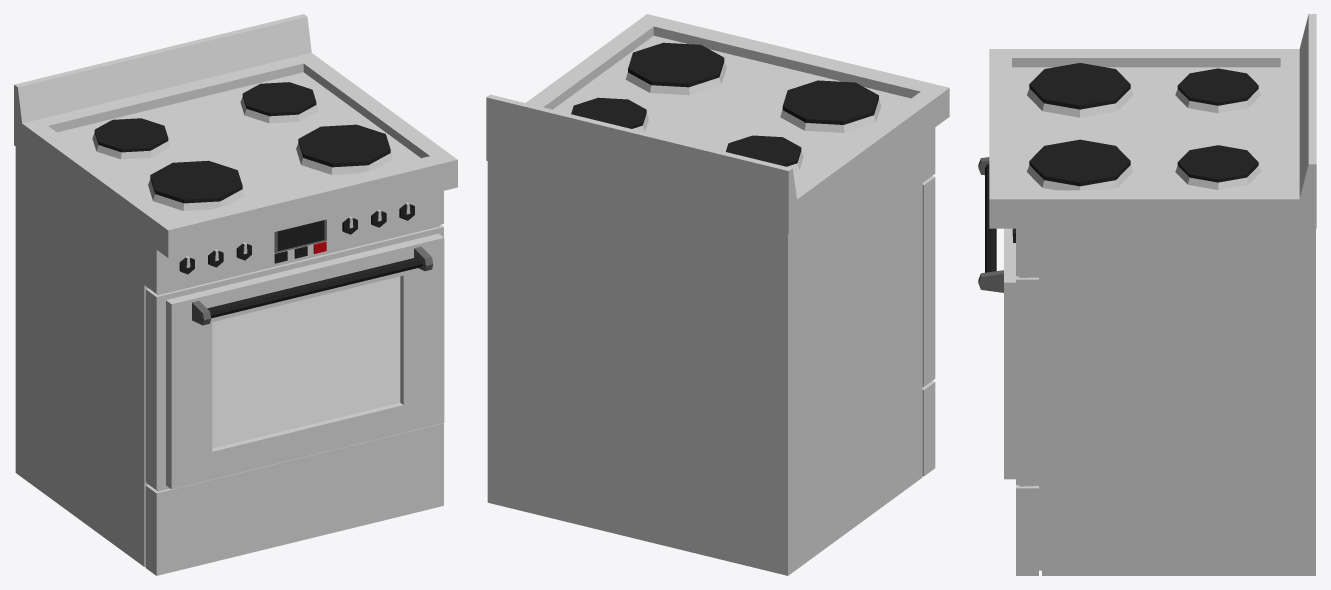
The model's file is Kitchen Gas Stove.glb.
3 renders of one model, left to right at view 1: azimuth 30°, elevation 25°; view 2: azimuth 150°, elevation 25°; view 3: azimuth 270°, elevation 25°, orthographic. The views are drawn at different scales.
Visible parts, largest first — view 1: Gas Stove; view 2: Gas Stove; view 3: Gas Stove.
Part boxes in pixels (x1,y1,x2,y2): Gas Stove: (14,14,457,575); Gas Stove: (486,14,949,575); Gas Stove: (978,14,1316,575).
Bounding box in the file's own units: 0.7826 × 1 × 0.7446.
2 materials, 1 textured.
